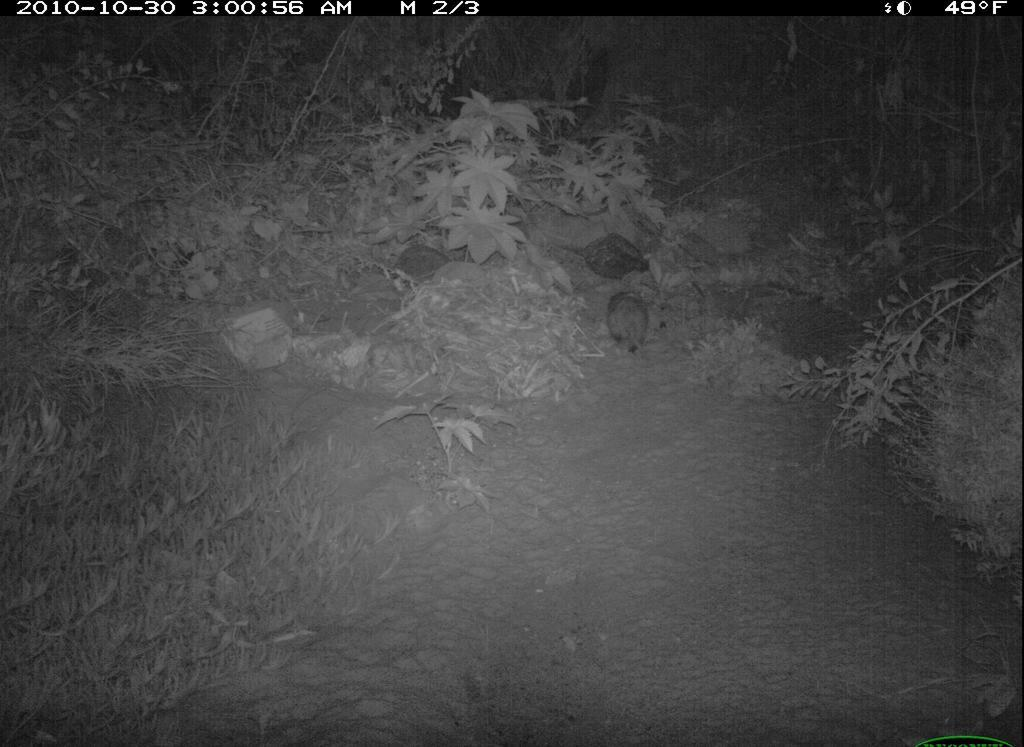opossum: (598, 289, 662, 351)
